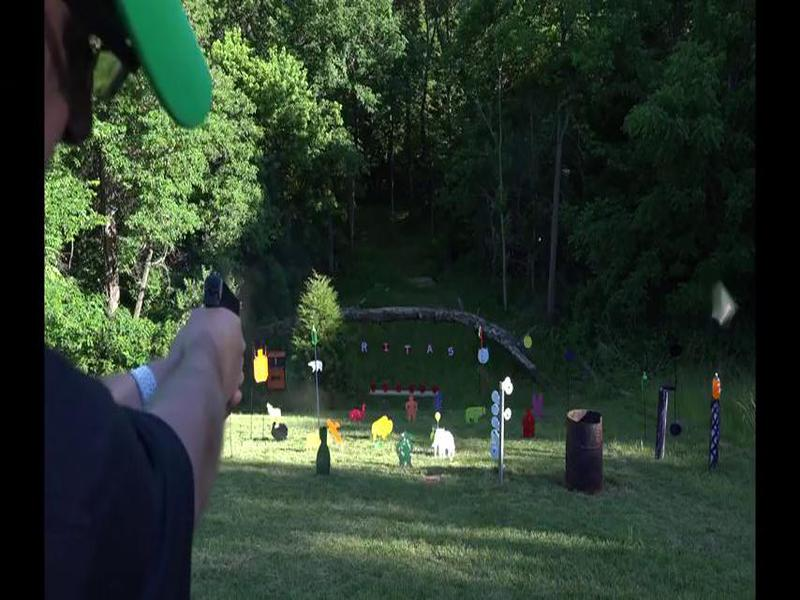Pistola: (180, 269, 251, 325)
